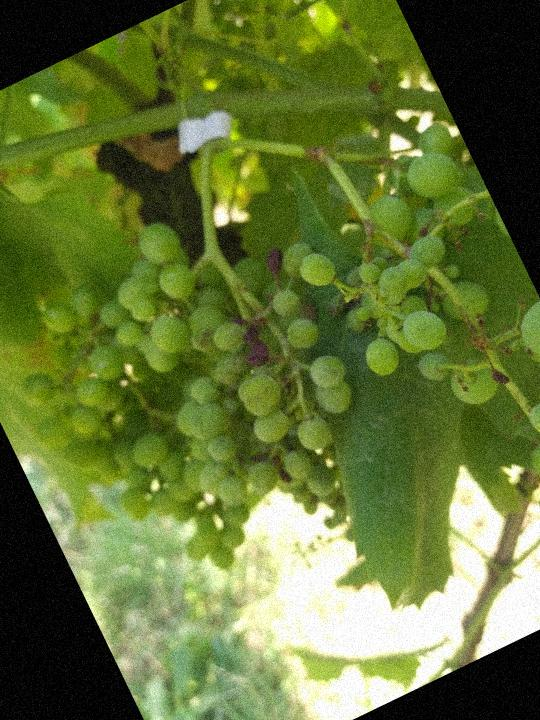grape: (79, 165, 415, 553)
